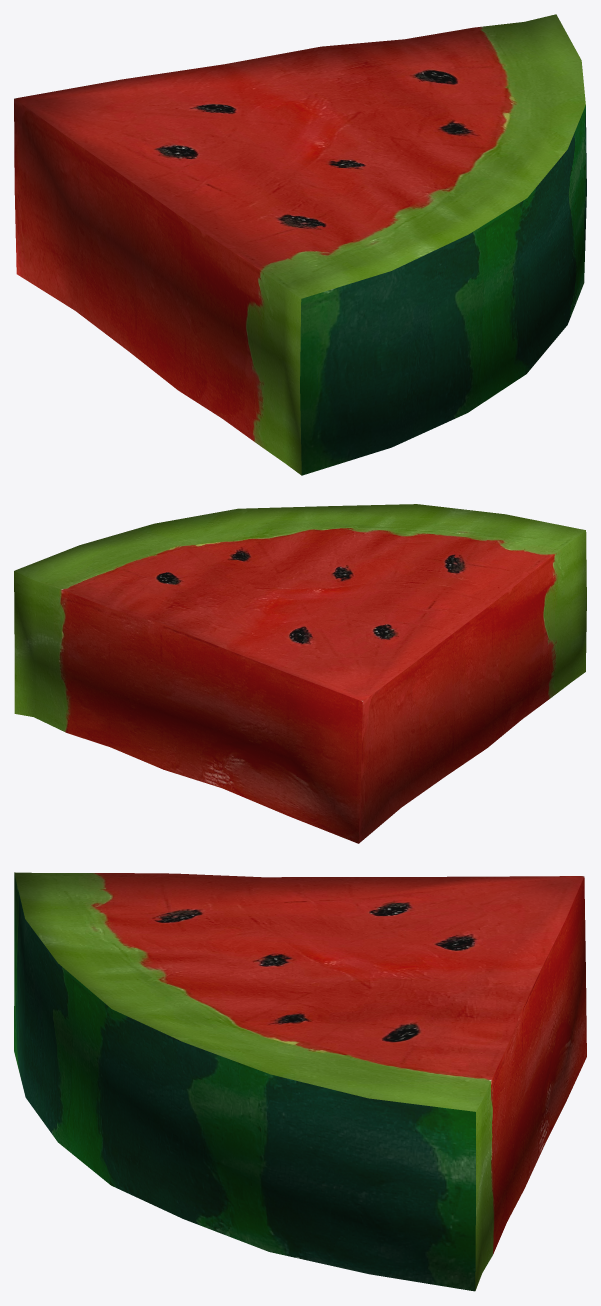
File: watermelon2.glb
3 views of the same model, one above another, from view 1: azimuth 30°, elevation 25°; view 2: azimuth 150°, elevation 25°; view 3: azimuth 270°, elevation 25° (orthographic). The views are drawn at different scales.
Visible parts, largest first — view 1: Sphere; view 2: Sphere; view 3: Sphere.
Part boxes in pixels (<box>): Sphere: <box>14,14,586,475</box>; Sphere: <box>14,504,586,843</box>; Sphere: <box>14,872,586,1291</box>.
Size of the model in its own units: 0.973 by 0.3558 by 0.9801.
Materials: 1 (1 with a texture image).
